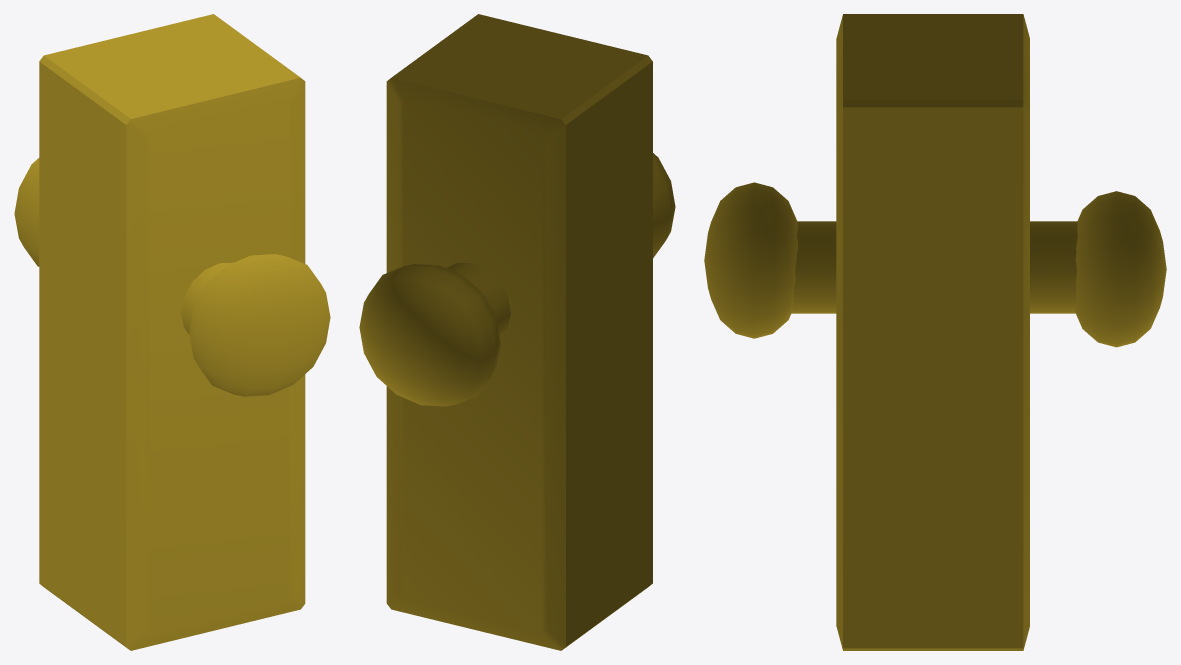
File: FP312:StandardKnob1_009_d93b5638.obj
The picture shows the model from 3 angles, left to right: view 1: azimuth 30°, elevation 25°; view 2: azimuth 150°, elevation 25°; view 3: azimuth 270°, elevation 25°; orthographic projection. The views are drawn at different scales.
Visible parts, largest first — view 1: FP312:StandardKnob1.009_d93b5638; view 2: FP312:StandardKnob1.009_d93b5638; view 3: FP312:StandardKnob1.009_d93b5638.
Boxes of the visible parts, left/top/right/bottom form: FP312:StandardKnob1.009_d93b5638: left=14, top=14, right=330, bottom=650; FP312:StandardKnob1.009_d93b5638: left=359, top=14, right=675, bottom=650; FP312:StandardKnob1.009_d93b5638: left=704, top=14, right=1166, bottom=650.
Bounding box in the file's own units: 0.058 × 0.1645 × 0.1251.
